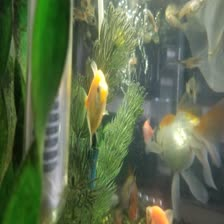Cuezo: (148, 103, 223, 212)
Plano: (79, 57, 115, 142)
